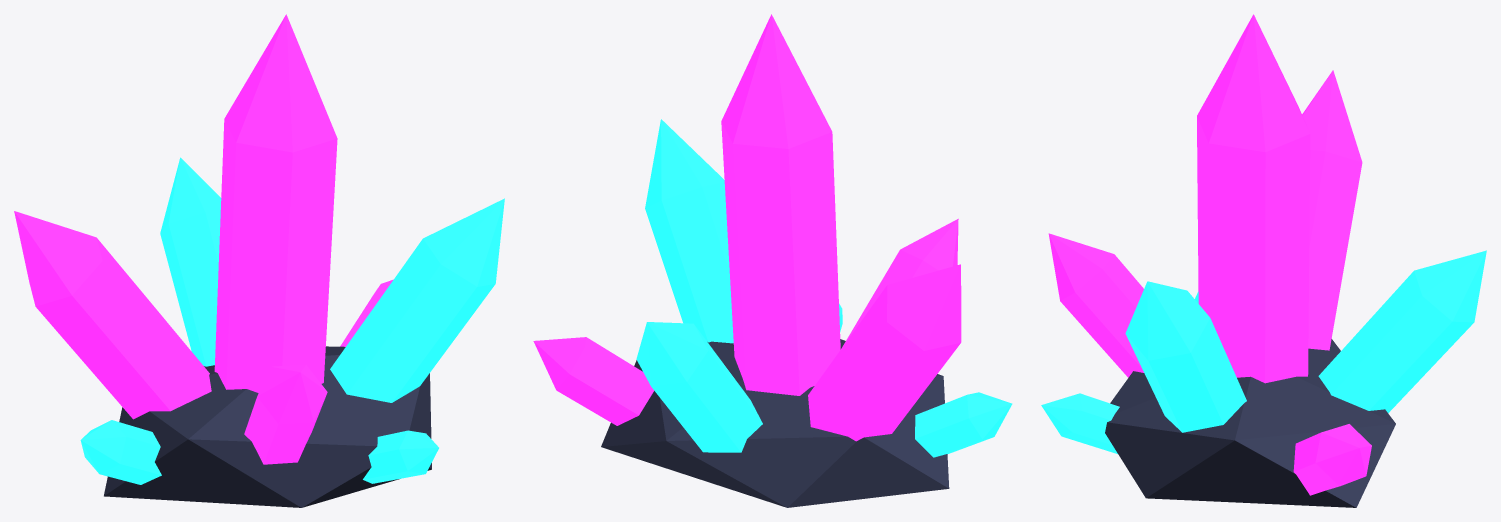
Rendered from alien_crystals.glb.
3 renders of one model, left to right at view 1: azimuth 30°, elevation 25°; view 2: azimuth 150°, elevation 25°; view 3: azimuth 270°, elevation 25°, orthographic. The views are drawn at different scales.
Visible parts, largest first — view 1: alien_crystals; view 2: alien_crystals; view 3: alien_crystals.
Boxes of the visible parts, x1,y1,x2,y2 form: alien_crystals: [14, 14, 504, 507]; alien_crystals: [533, 14, 1012, 507]; alien_crystals: [1041, 14, 1486, 507].
Bounding box in the file's own units: 0.6424 × 0.6565 × 0.5864.
